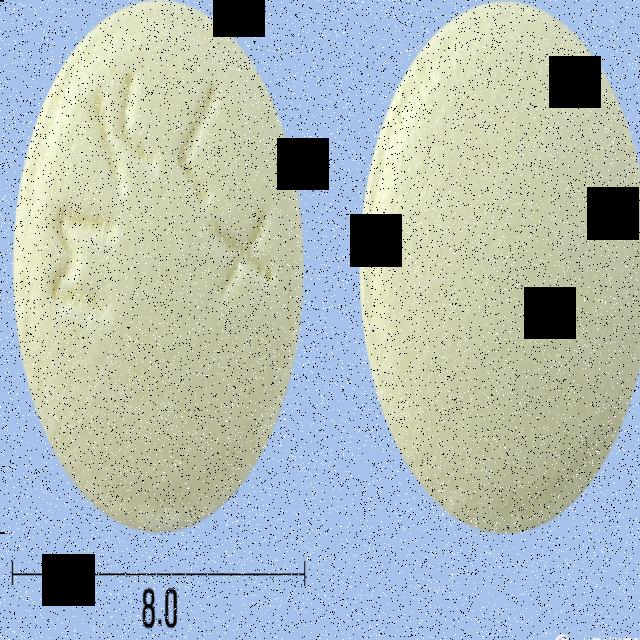Lerocin: (12, 0, 306, 529)
